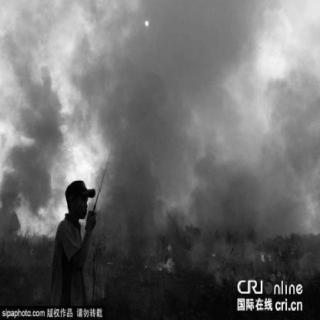other: (137, 11, 154, 33)
